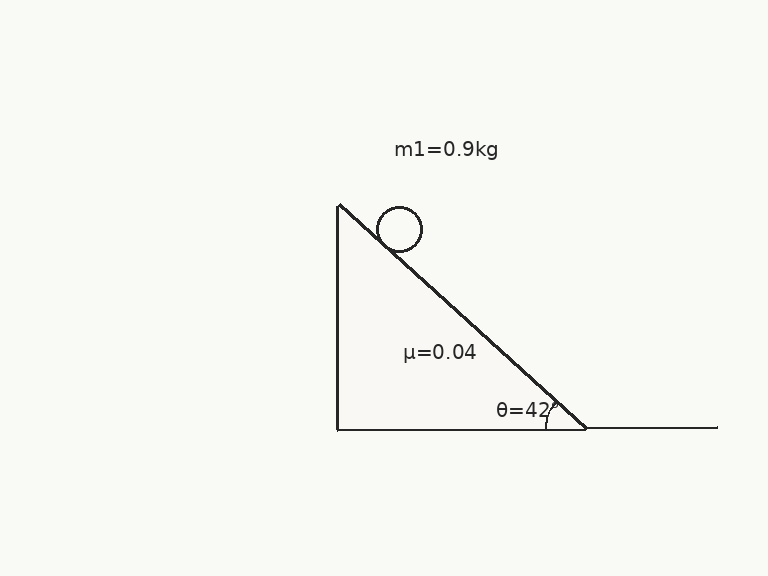ball: (374, 204, 424, 254)
ramp: (336, 203, 588, 430)
